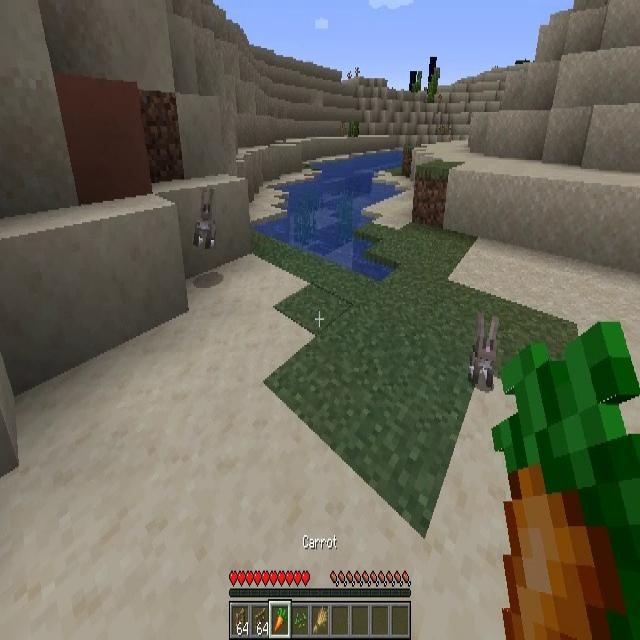rabbit: (468, 316, 500, 386), (192, 188, 216, 250)
